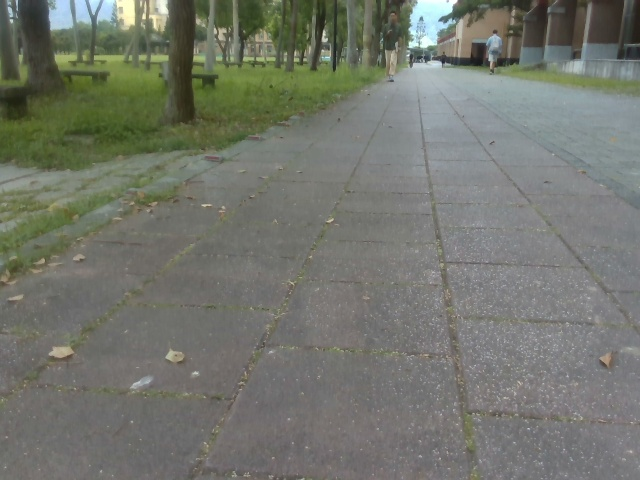grass: (0, 0, 416, 125), (0, 53, 408, 170), (459, 66, 639, 97), (440, 0, 528, 31)
road: (0, 63, 639, 479)
sidewalk: (0, 160, 215, 275), (586, 113, 639, 193)
